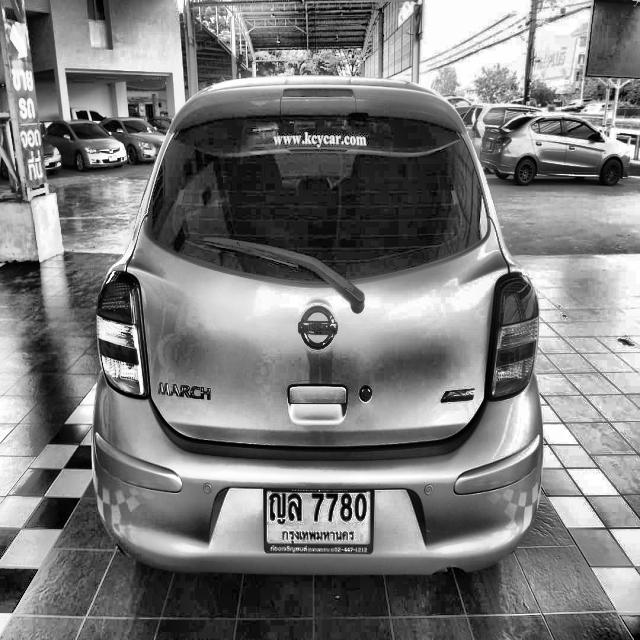license-plate: (260, 482, 376, 560)
